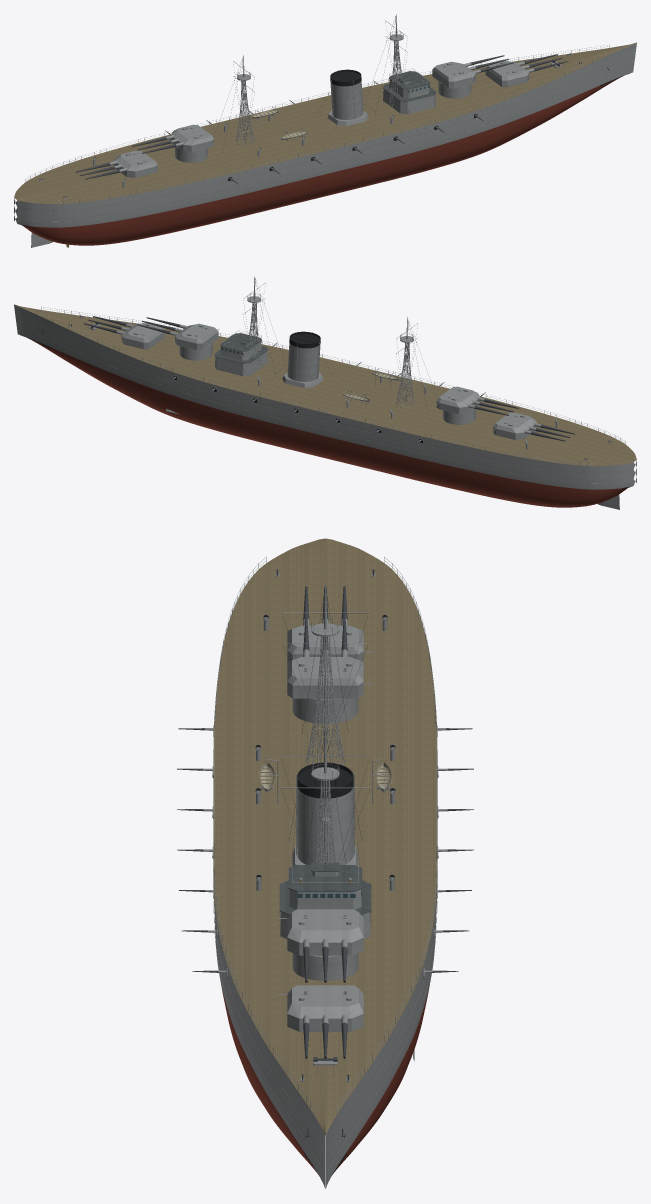
The model's file is new_mexico.glb.
The picture shows the model from 3 angles, top to bottom: view 1: azimuth 30°, elevation 25°; view 2: azimuth 150°, elevation 25°; view 3: azimuth 270°, elevation 25°; orthographic projection. The views are drawn at different scales.
Parts seen in each view (by area): view 1: New Mexico class; view 2: New Mexico class; view 3: New Mexico class.
Part boxes in pixels (x1=…): New Mexico class: x1=14, y1=14, x2=636, y2=247; New Mexico class: x1=14, y1=276, x2=636, y2=509; New Mexico class: x1=177, y1=538, x2=473, y2=1188.
Size of the model in its own units: 190 by 43.05 by 39.34.
Materials: 9 (8 with a texture image).
